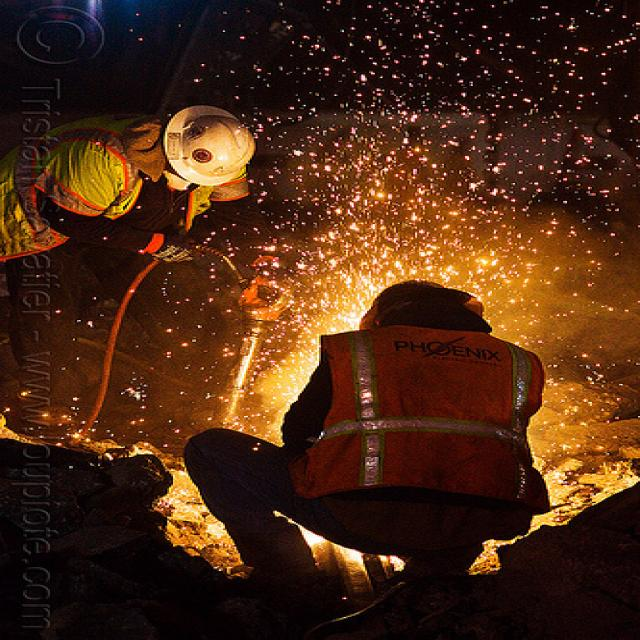Reflective-Jacket: (315, 314, 555, 526)
Safety-Helmet: (162, 101, 258, 191)
